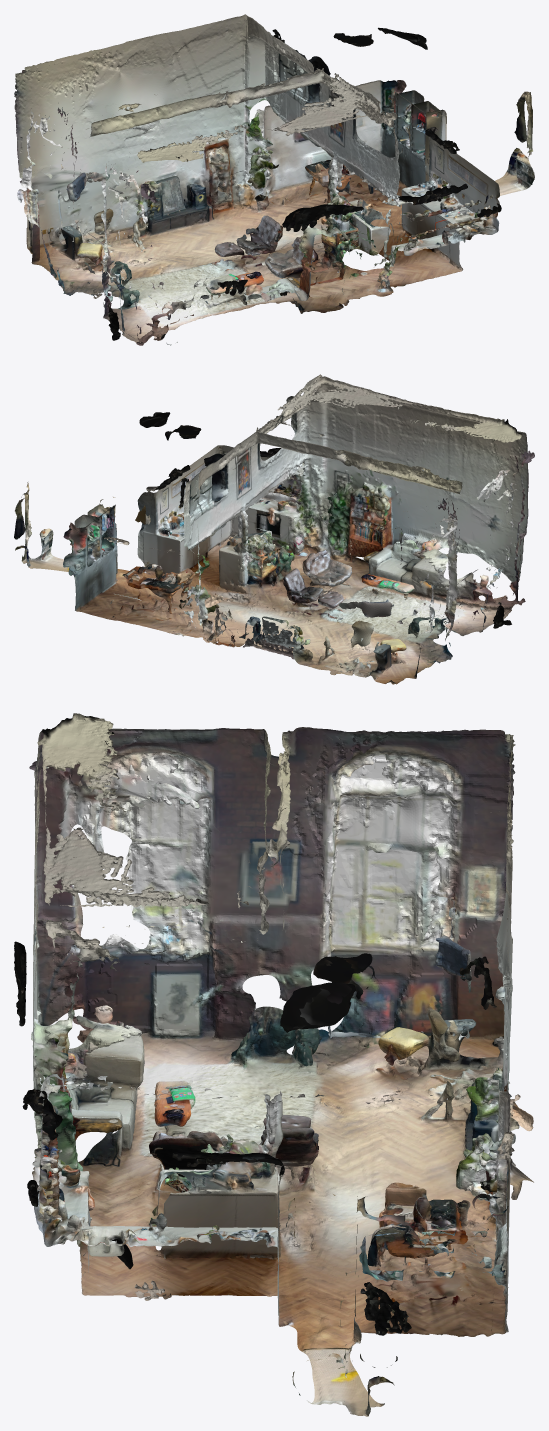
3 renders of one model, top to bottom at view 1: azimuth 30°, elevation 25°; view 2: azimuth 150°, elevation 25°; view 3: azimuth 270°, elevation 25°, orthographic. The views are drawn at different scales.
Size of the model in its own units: 11.13 by 4.56 by 6.22.
Materials: 3 (3 with a texture image).
